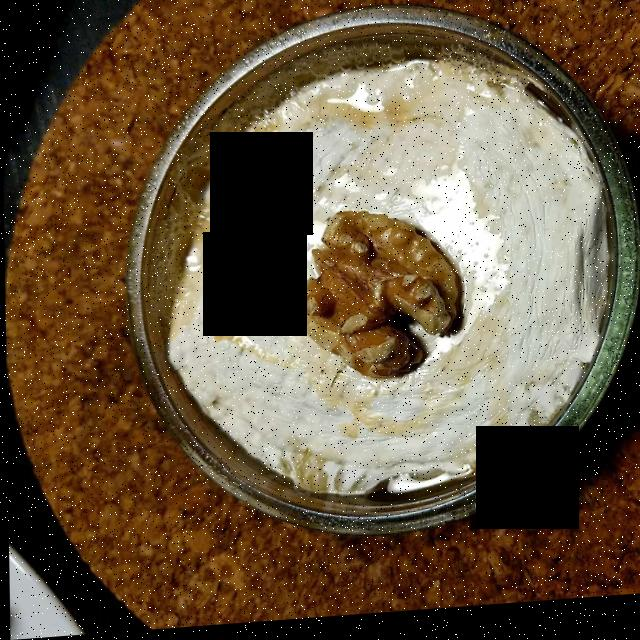walnut: (290, 223, 460, 377)
